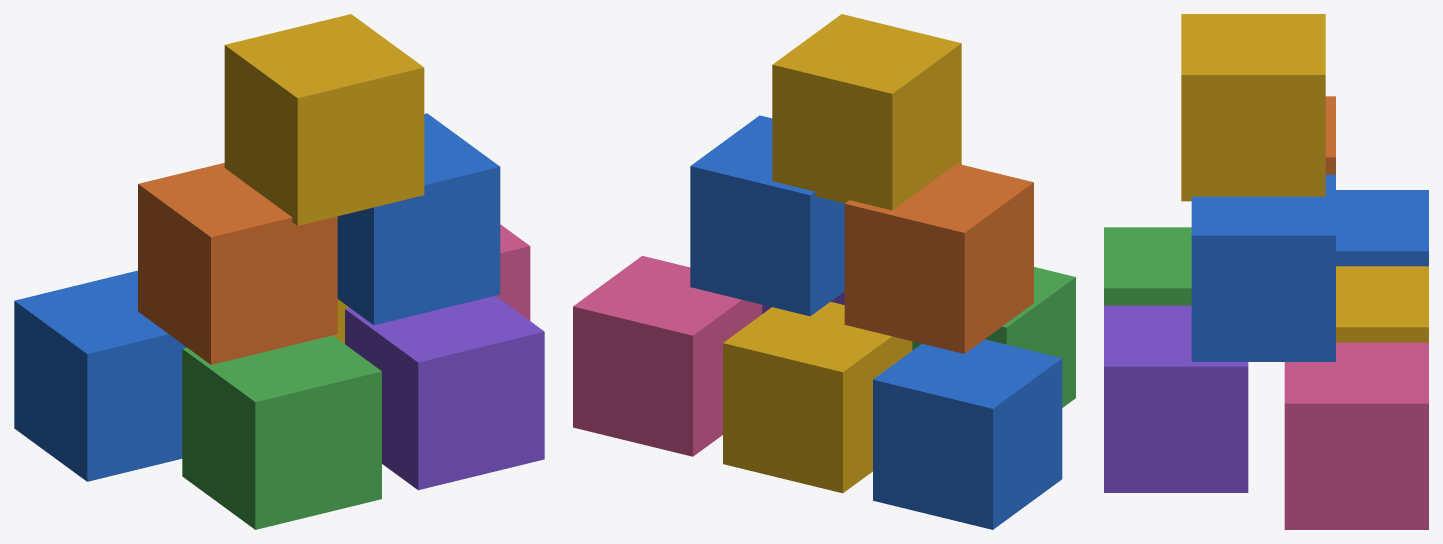
The model's file is tt-goods-pile.glb.
3 views of the same model, side by side, from view 1: azimuth 30°, elevation 25°; view 2: azimuth 150°, elevation 25°; view 3: azimuth 270°, elevation 25° (orthographic). The views are drawn at different scales.
Parts seen in each view (by area): view 1: box-prop; view 2: box-prop; view 3: box-prop.
Boxes of the visible parts, left/top/right/bottom form: box-prop: left=14, top=14, right=544, bottom=529; box-prop: left=573, top=14, right=1075, bottom=529; box-prop: left=1104, top=14, right=1428, bottom=529.
Size of the model in its own units: 0.98 by 0.81 by 0.63.
